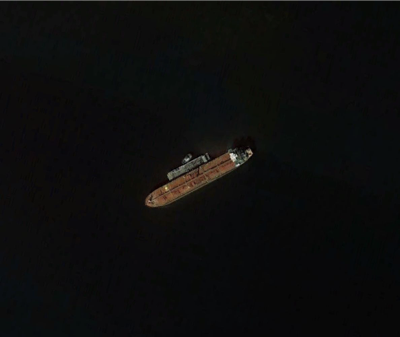boat: (144, 144, 255, 210)
